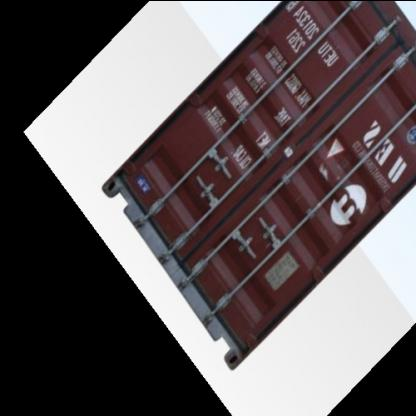Damage: (315, 139, 361, 189), (245, 26, 276, 58)
